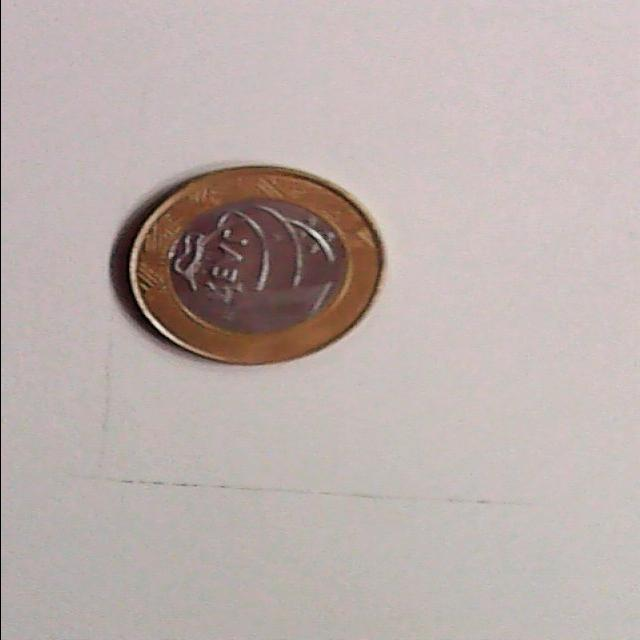1 real: (104, 152, 404, 386)
